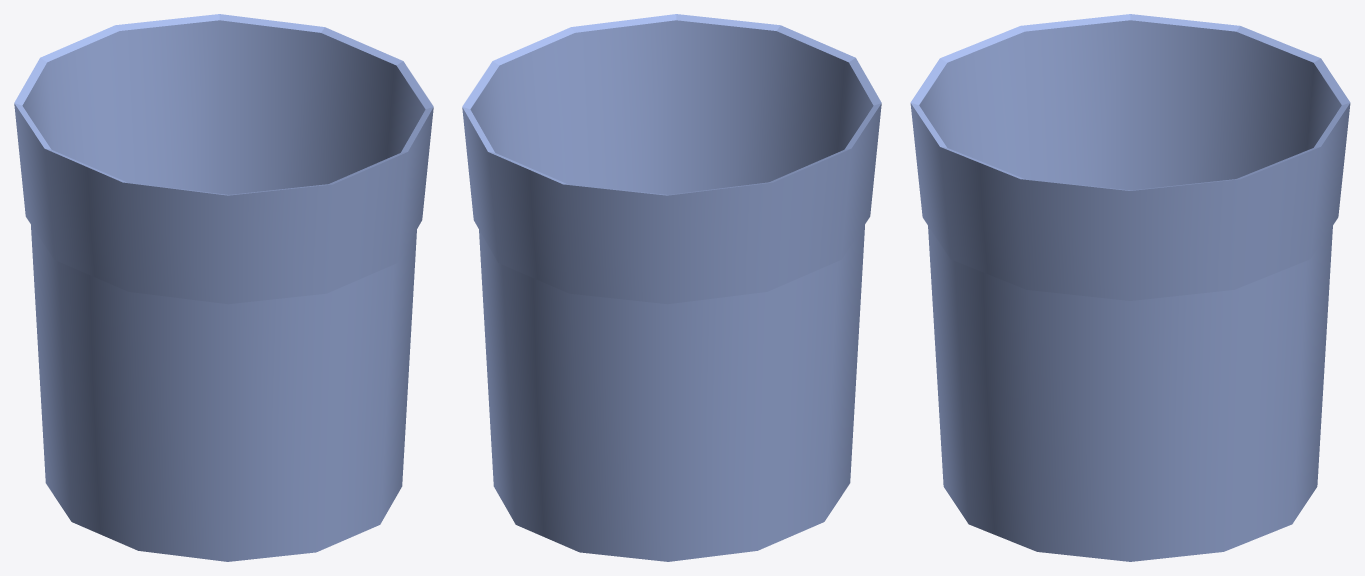
Rendered from Bucket.fbx.
The picture shows the model from 3 angles, left to right: view 1: azimuth 30°, elevation 25°; view 2: azimuth 150°, elevation 25°; view 3: azimuth 270°, elevation 25°; orthographic projection.
Visible parts, largest first — view 1: bucket; view 2: bucket; view 3: bucket.
Boxes of the visible parts, x1,y1,x2,y2 form: bucket: (14, 14, 433, 561); bucket: (462, 14, 881, 561); bucket: (910, 14, 1350, 561).
Bounding box in the file's own units: 38.53 × 38.98 × 40.46.
